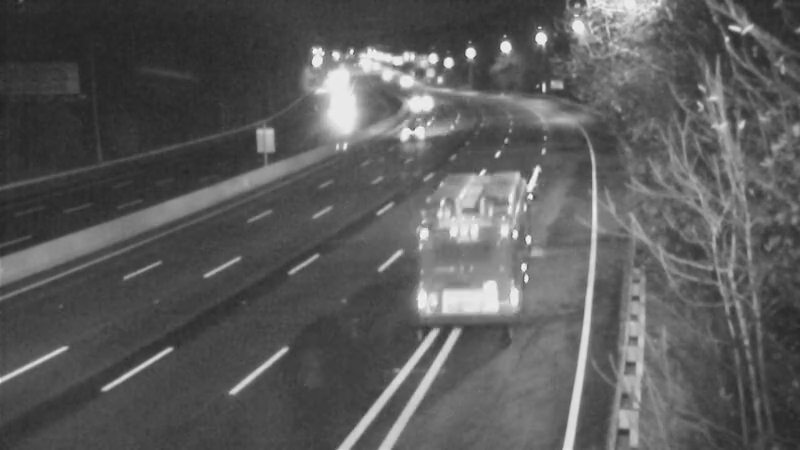vehicle: (426, 188, 506, 268), (378, 55, 428, 105), (395, 80, 445, 130), (385, 104, 435, 154), (313, 86, 363, 136)
